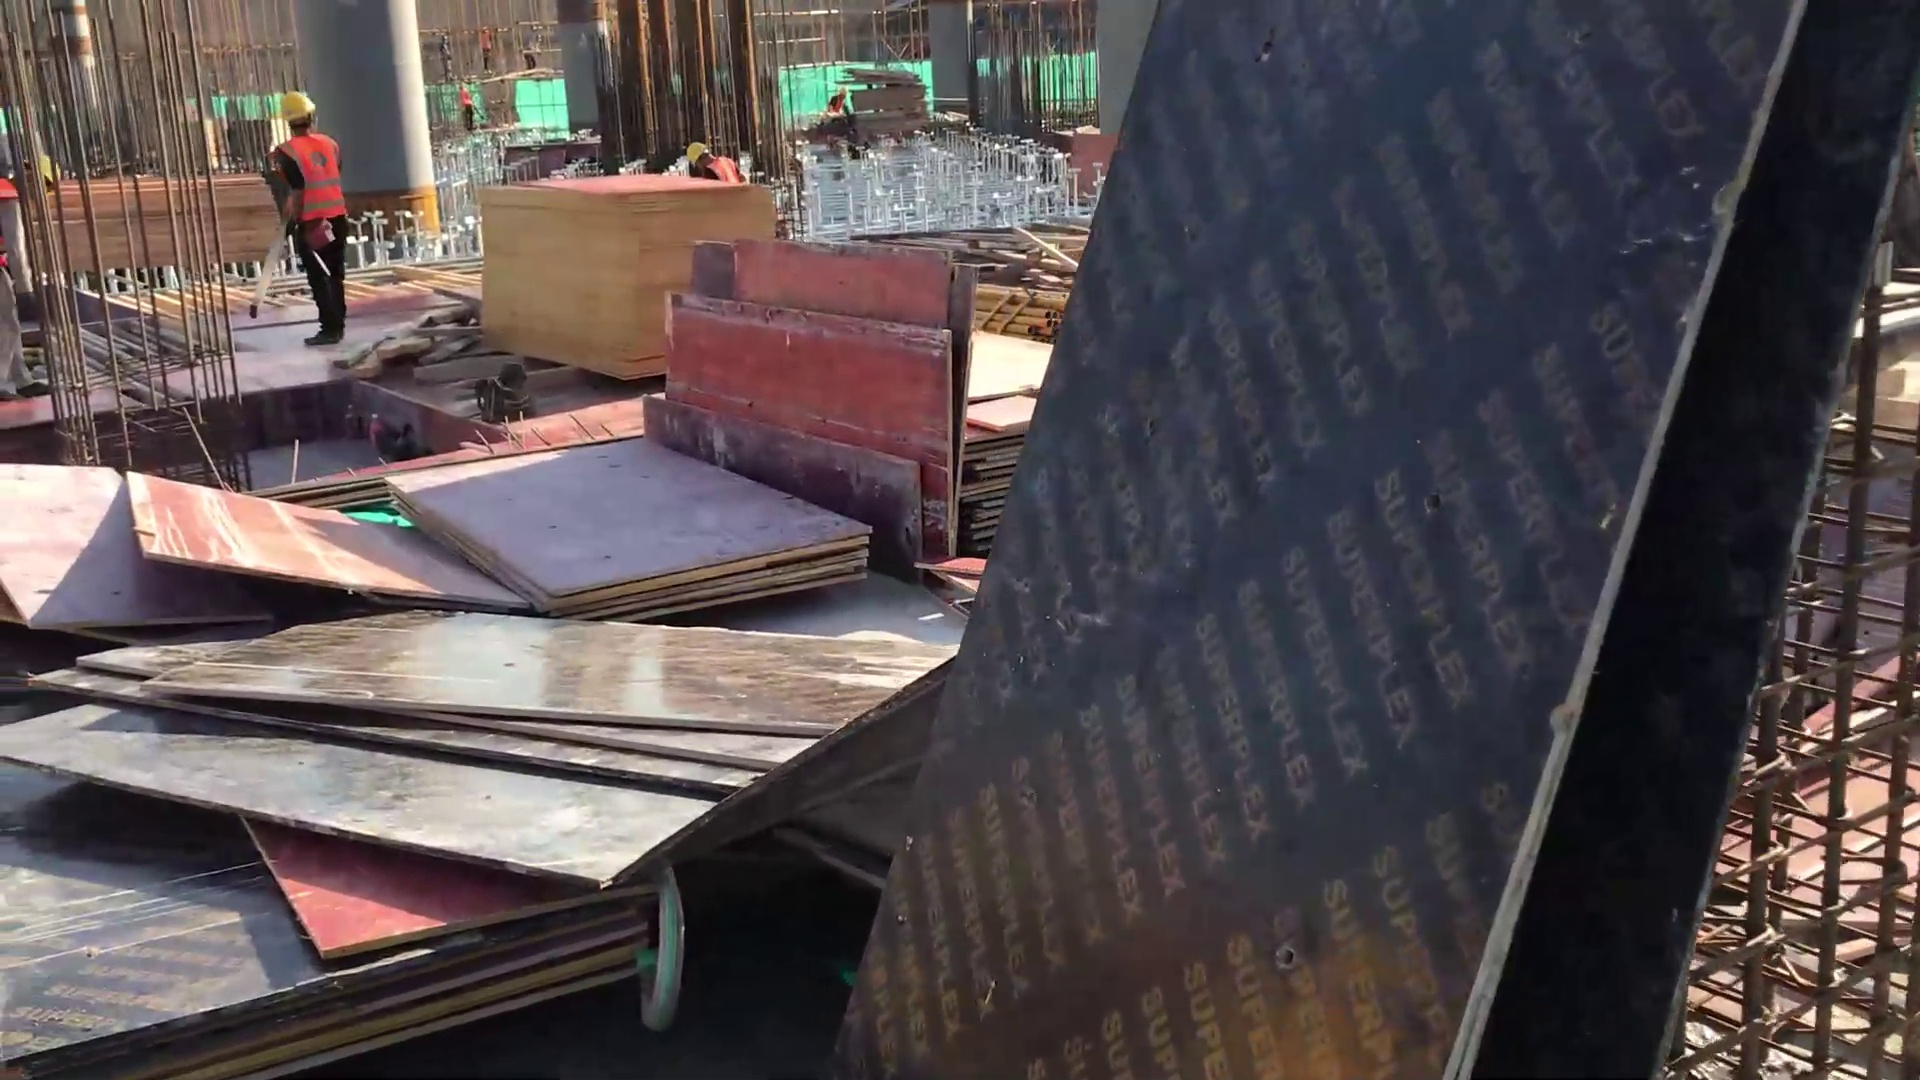board: (394, 444, 861, 625), (465, 171, 748, 362)
helmet: (278, 88, 318, 123), (688, 140, 709, 165), (840, 85, 847, 97)
person: (264, 85, 362, 338), (688, 138, 754, 189), (826, 85, 849, 111)
vest: (276, 169, 354, 228), (1, 176, 20, 271), (707, 155, 743, 185), (831, 90, 848, 111)
